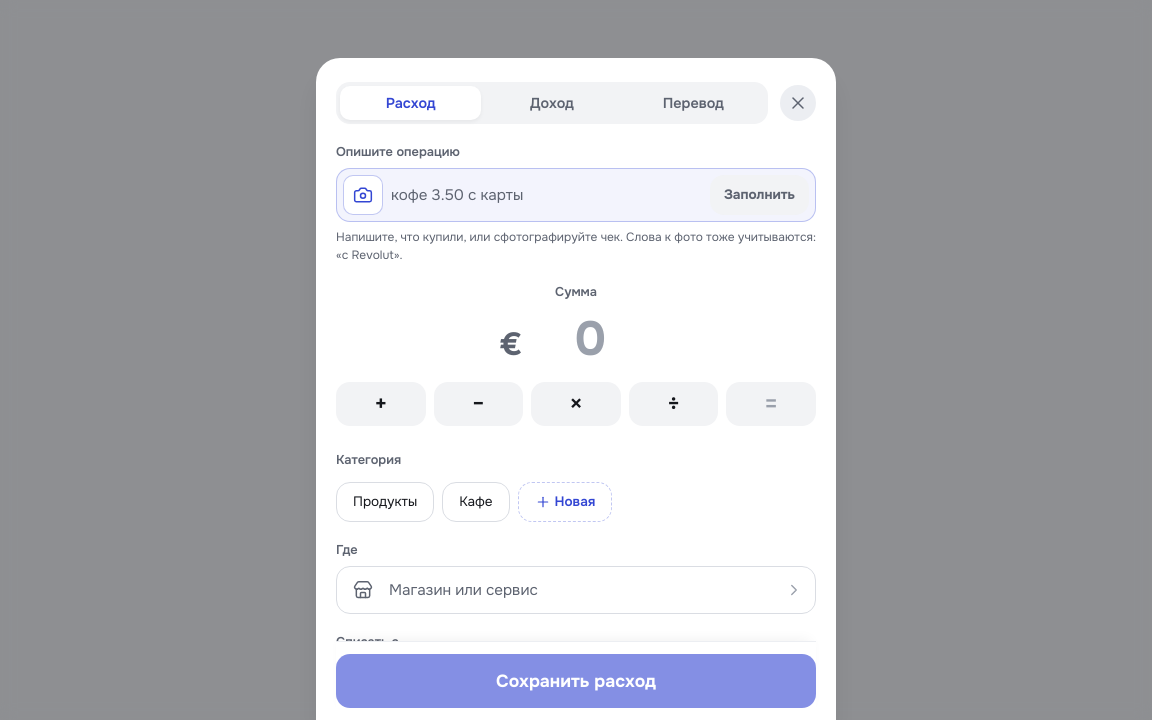
it: QuickEntry in the transaction form › falls back to the default unparsed text and to a network message
Type "что-то купил" into the field labelled "Опишите операцию" at (546, 195), box 391,185 -> 702,205
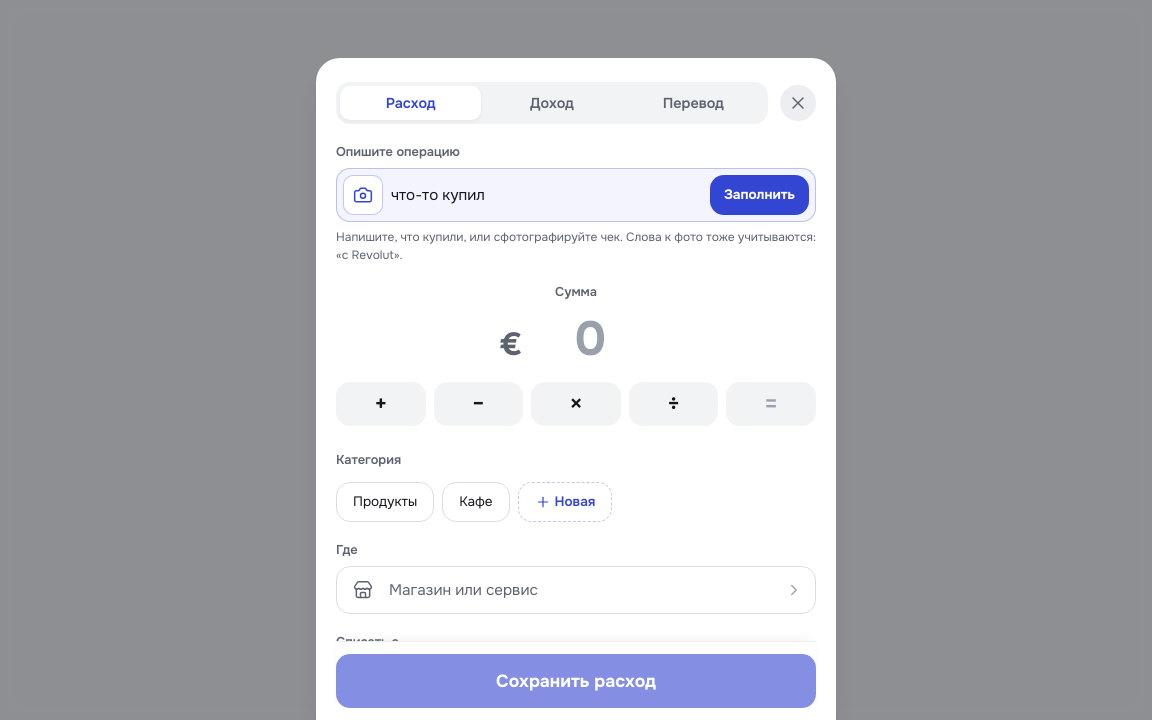
Click the button "Заполнить" at (759, 195), box 710,175 -> 809,215
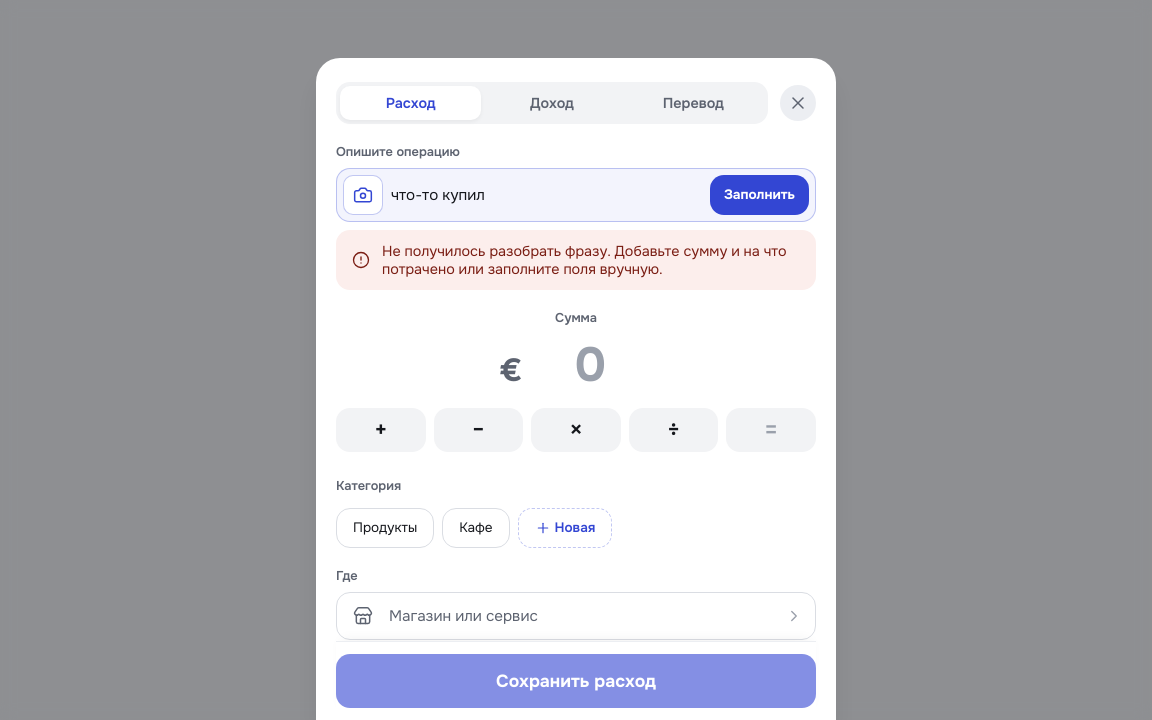
Check: the message shows "Не получилось разобрать фразу. Добавьте сумму и на что потрачено или заполните поля вручную.", box 382,242 -> 786,278
